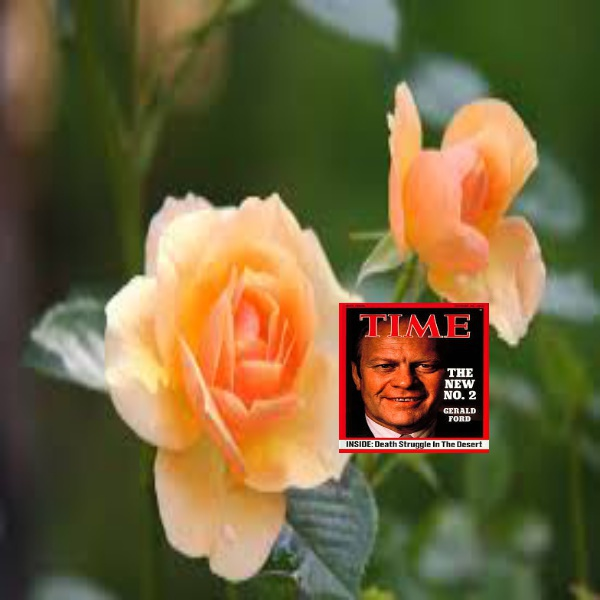time_cover: (333, 300, 484, 459)
